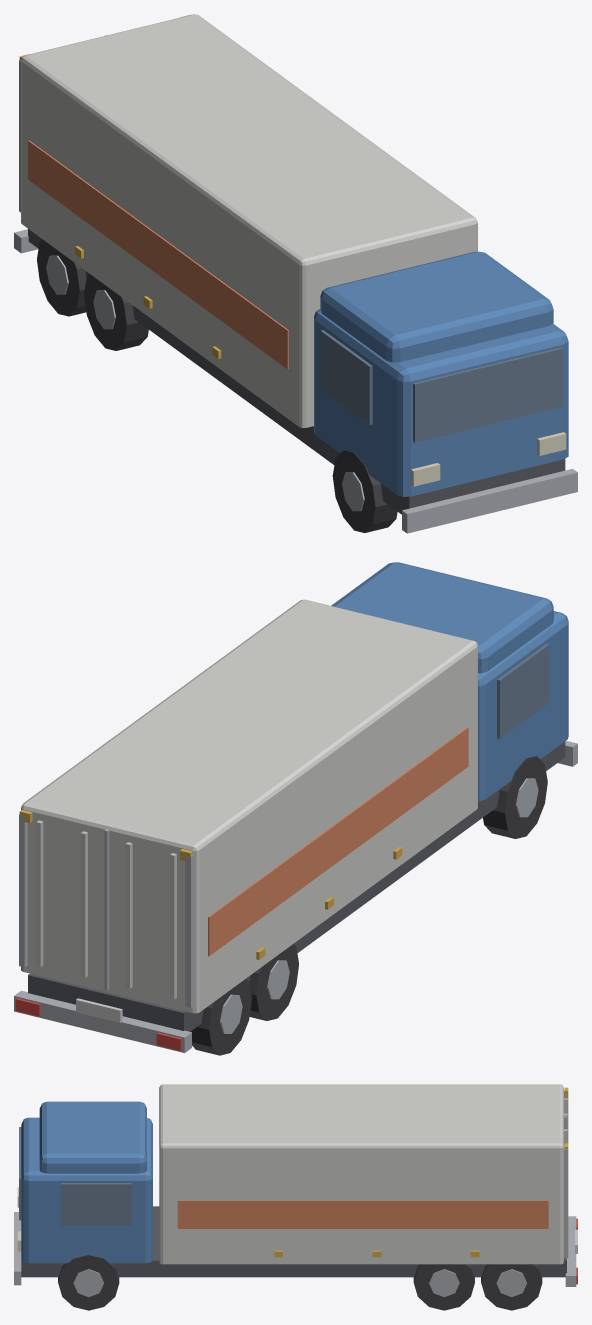
Rendered from noturno-truck.glb.
3 renders of one model, top to bottom at view 1: azimuth 30°, elevation 25°; view 2: azimuth 150°, elevation 25°; view 3: azimuth 270°, elevation 25°, orthographic. The views are drawn at different scales.
Bounding box in the file's own units: 2.48 × 3 × 9.2.
